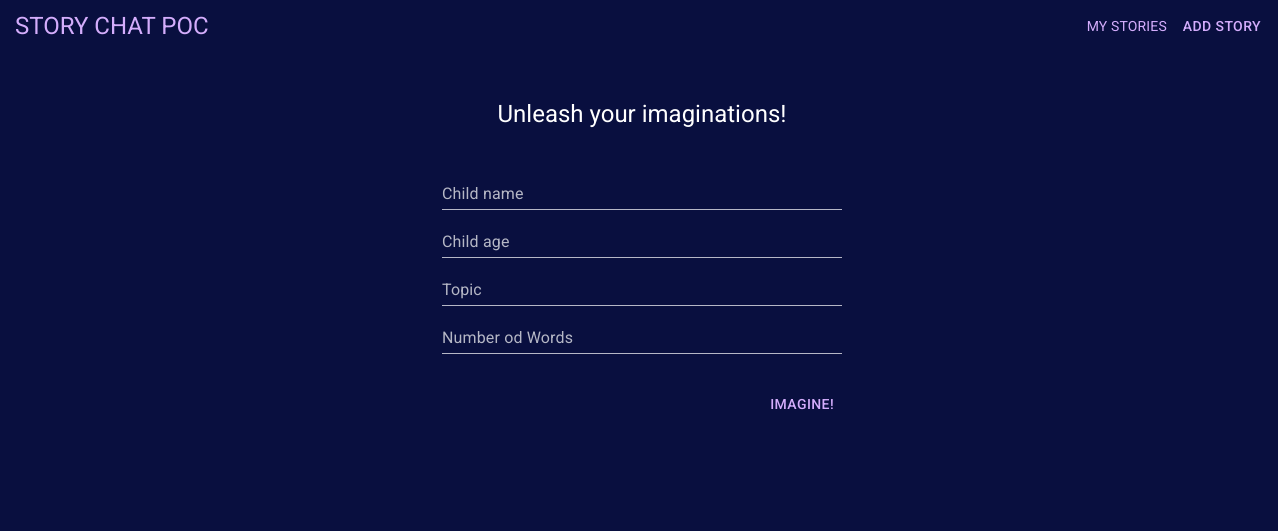
Scenario: AddStory › Should show an error, when a "Child age" field is empty
Type "4" into the field labelled "Child age" at {"x": 642, "y": 242}, box [442,226,842,258]
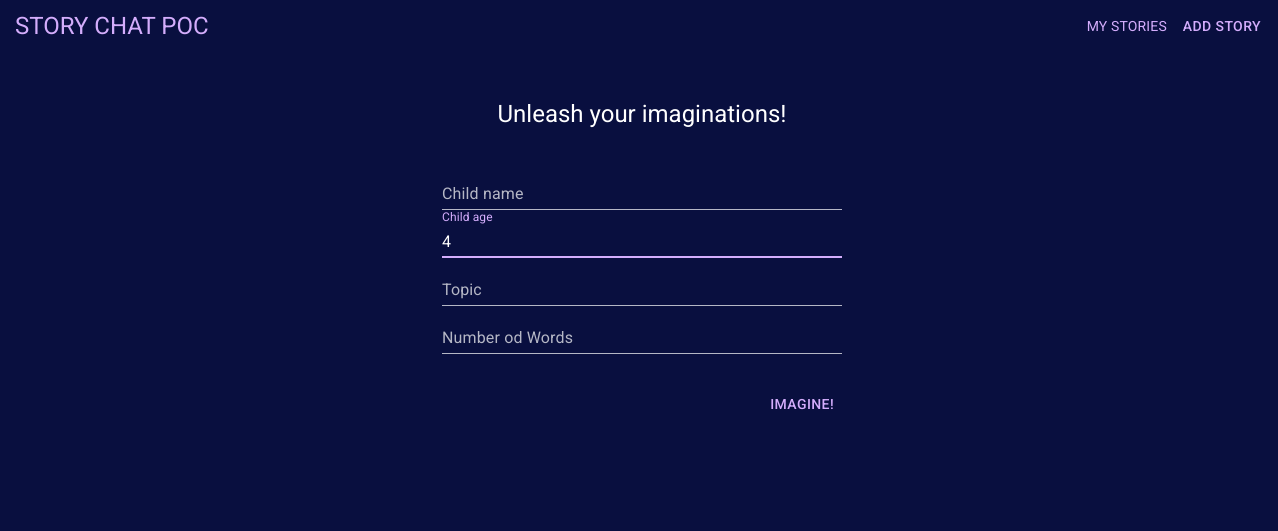
Clear the field labelled "Child age" at {"x": 642, "y": 242}, box [442,226,842,258]
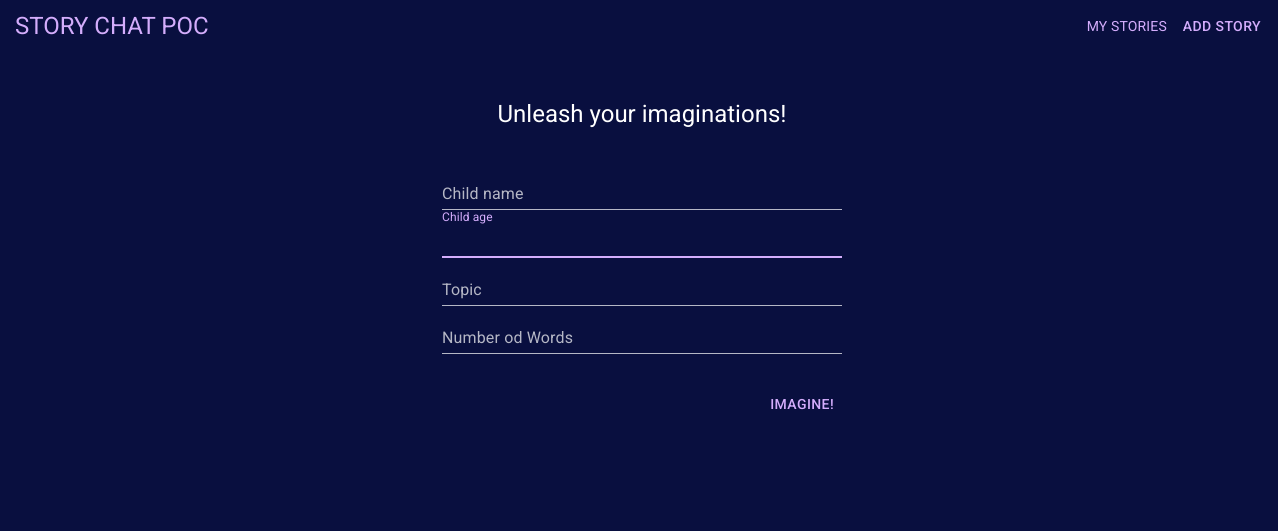
Click the button "Imagine!" at {"x": 802, "y": 405}, box [762,386,842,423]
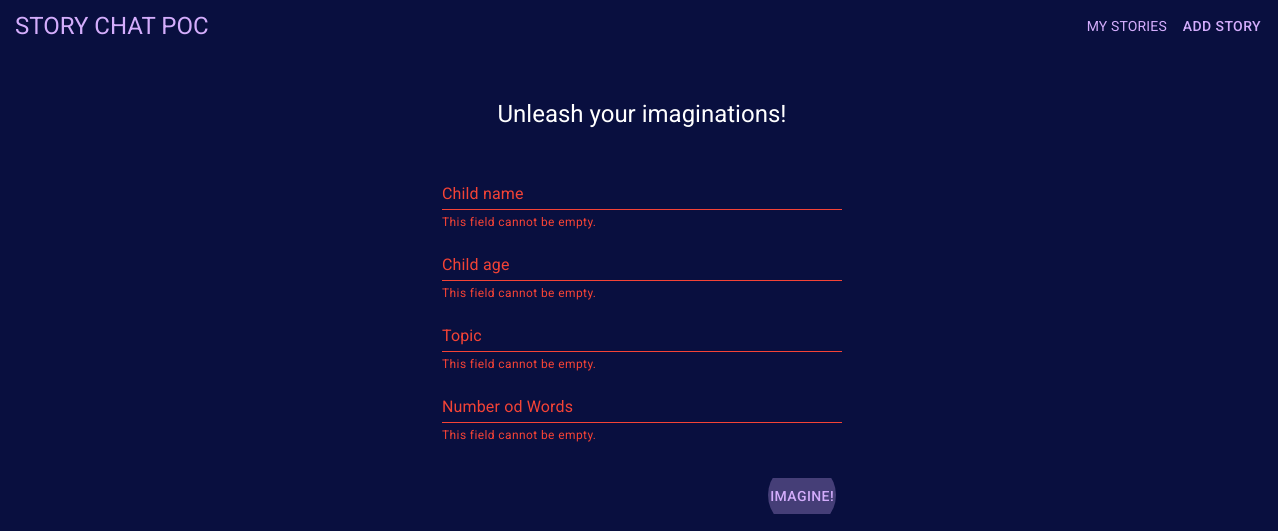
Expected: the text "This field cannot be empty." below "Child name" is shown, [442,215,596,229]
